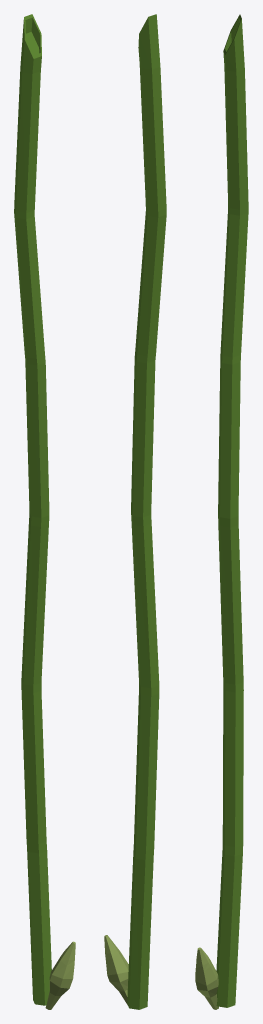
The model's file is bamboo3.obj.
3 views of the same model, side by side, from view 1: azimuth 30°, elevation 25°; view 2: azimuth 210°, elevation 25°; view 3: azimuth 270°, elevation 25° (orthographic).
Size of the model in its own units: 0.4143 by 9.3 by 0.4541.
